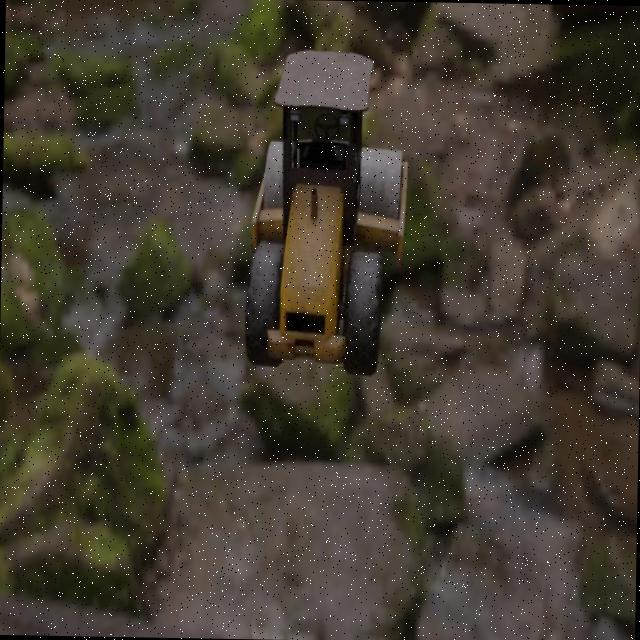Roller: (242, 46, 410, 376)
